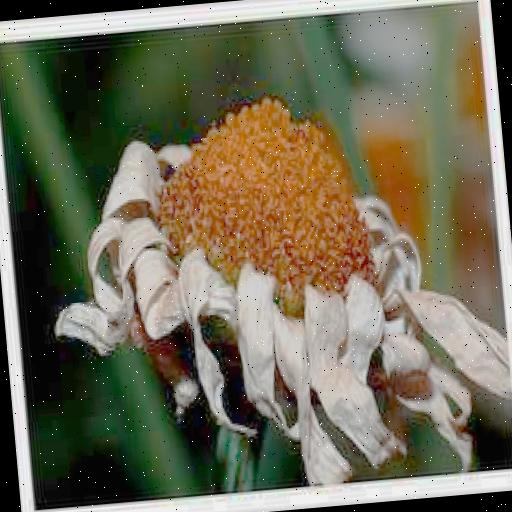daisy: (36, 105, 512, 448)
